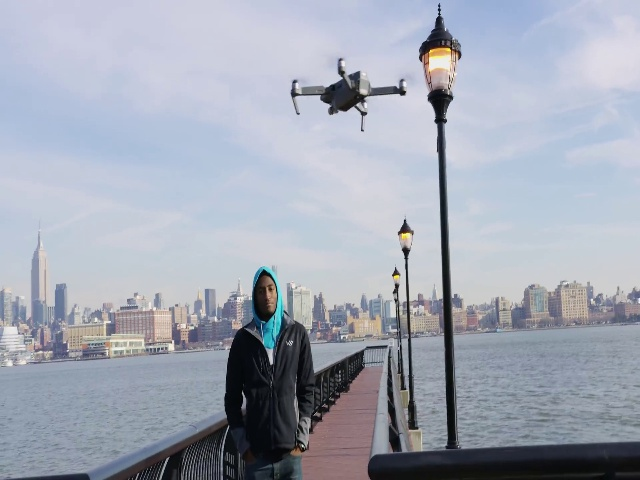drone: (275, 47, 422, 139)
